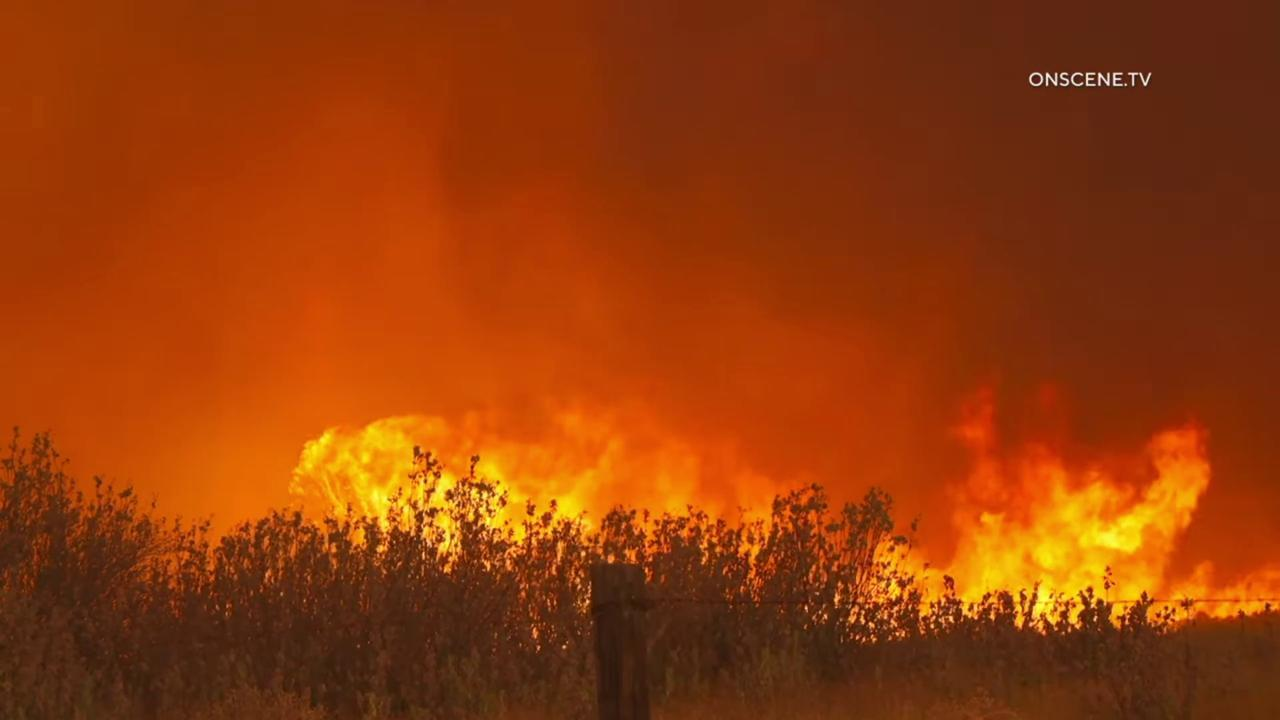fire: (822, 378, 1280, 648), (285, 410, 816, 606)
smoke: (0, 0, 1280, 652)
